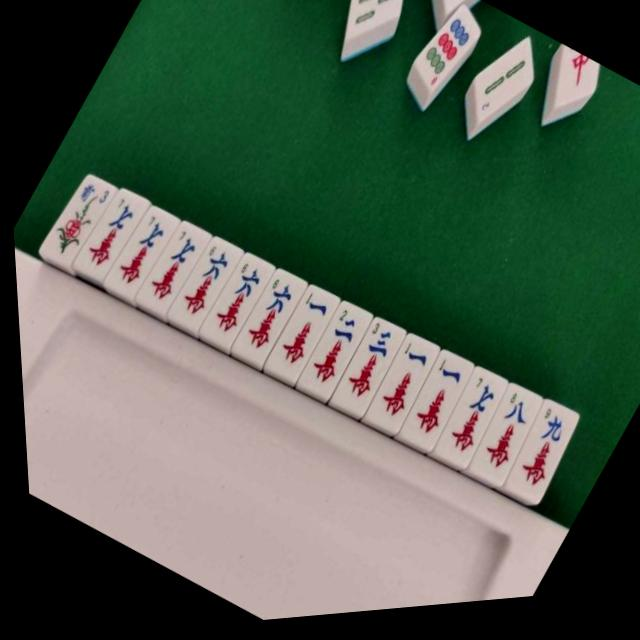bf3: (39, 173, 112, 263)
sb2: (472, 49, 530, 131)
sb3: (347, 0, 402, 40)
sc1: (355, 338, 438, 438), (390, 357, 471, 455), (260, 288, 338, 381)
sc2: (290, 305, 372, 402)
sc3: (322, 322, 402, 420)
sc6: (227, 274, 301, 365), (164, 239, 238, 329), (196, 257, 268, 345)
sc7: (422, 374, 504, 475), (131, 221, 206, 313), (101, 207, 175, 299), (72, 188, 143, 277)
sc8: (457, 390, 539, 492)
sc9: (494, 410, 576, 508)
sd9: (414, 12, 478, 97)
